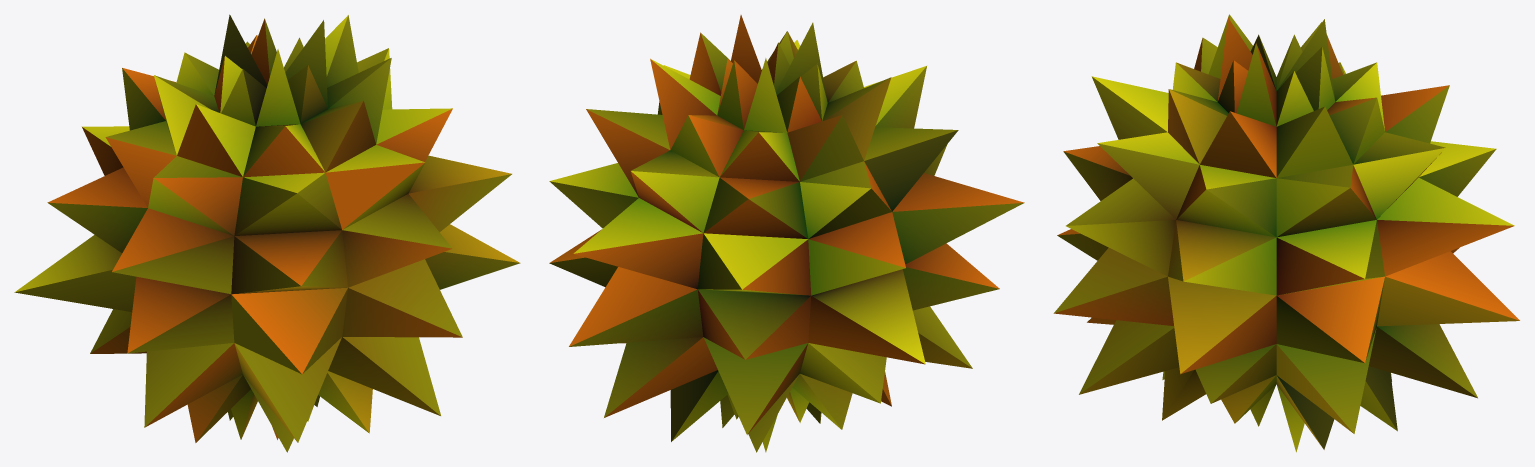
Rendered from LowPolyStar.fbx.
3 renders of one model, left to right at view 1: azimuth 30°, elevation 25°; view 2: azimuth 150°, elevation 25°; view 3: azimuth 270°, elevation 25°, orthographic. The views are drawn at different scales.
Parts seen in each view (by area): view 1: LowPolyStar; view 2: LowPolyStar; view 3: LowPolyStar.
Boxes of the visible parts, x1,y1,x2,y2 form: LowPolyStar: [14, 14, 520, 452]; LowPolyStar: [549, 15, 1024, 452]; LowPolyStar: [1053, 14, 1519, 452].
Size of the model in its own units: 0.0169 by 0.0162 by 0.0167.
